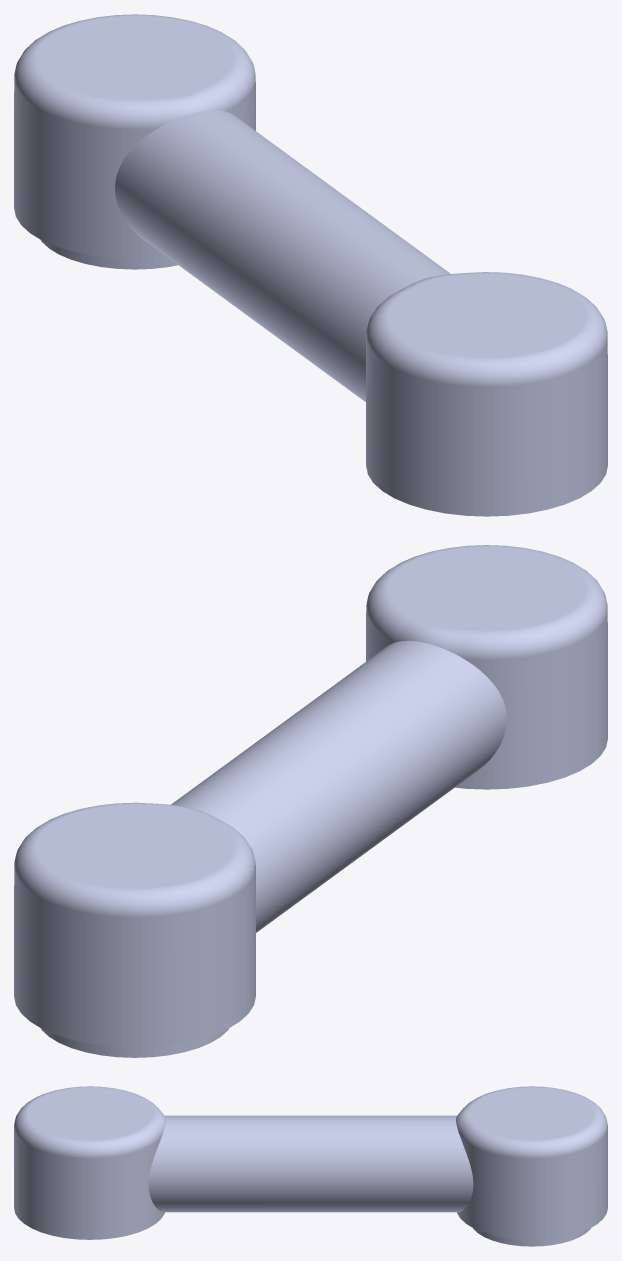
The picture shows the model from 3 angles, top to bottom: view 1: azimuth 30°, elevation 25°; view 2: azimuth 150°, elevation 25°; view 3: azimuth 270°, elevation 25°; orthographic projection. The views are drawn at different scales.
Parts seen in each view (by area): view 1: Link-2; view 2: Link-2; view 3: Link-2.
Part boxes in pixels (x1,y1,x2,y2): Link-2: (14,14,607,516); Link-2: (14,545,607,1057); Link-2: (14,1086,607,1246).
Size of the model in its own units: 0.11 by 0.085 by 0.43.
